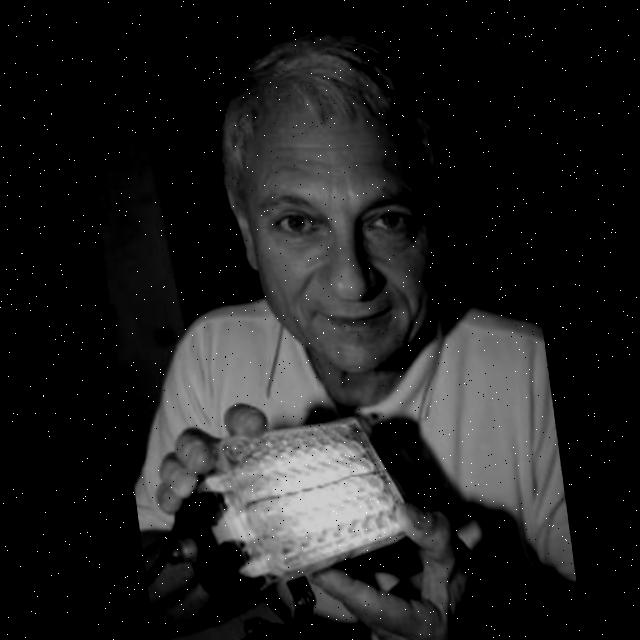face: (210, 42, 472, 390)
